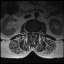CCS_normal: (32, 30, 33, 37)
LFS_severe_stenosis: (35, 30, 37, 35)
LLS_stenosis: (34, 30, 35, 35)
RFS_severe_stenosis: (29, 29, 30, 35)
RLS_severe_stenosis: (30, 30, 32, 35)
